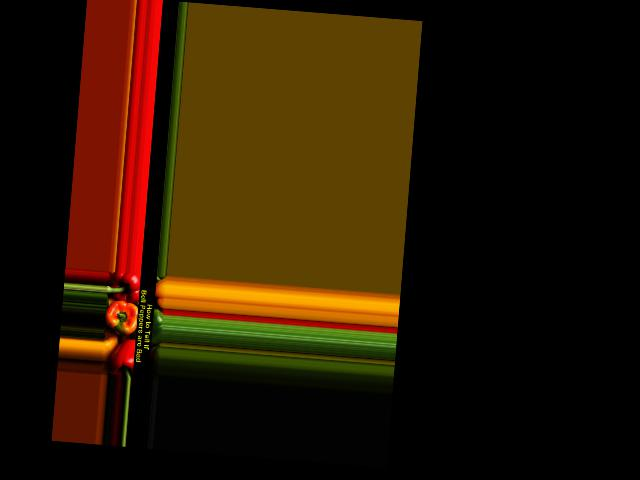bell_pepper: (106, 272, 142, 305)
